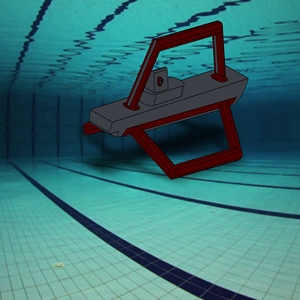submarine: (76, 11, 268, 200)
